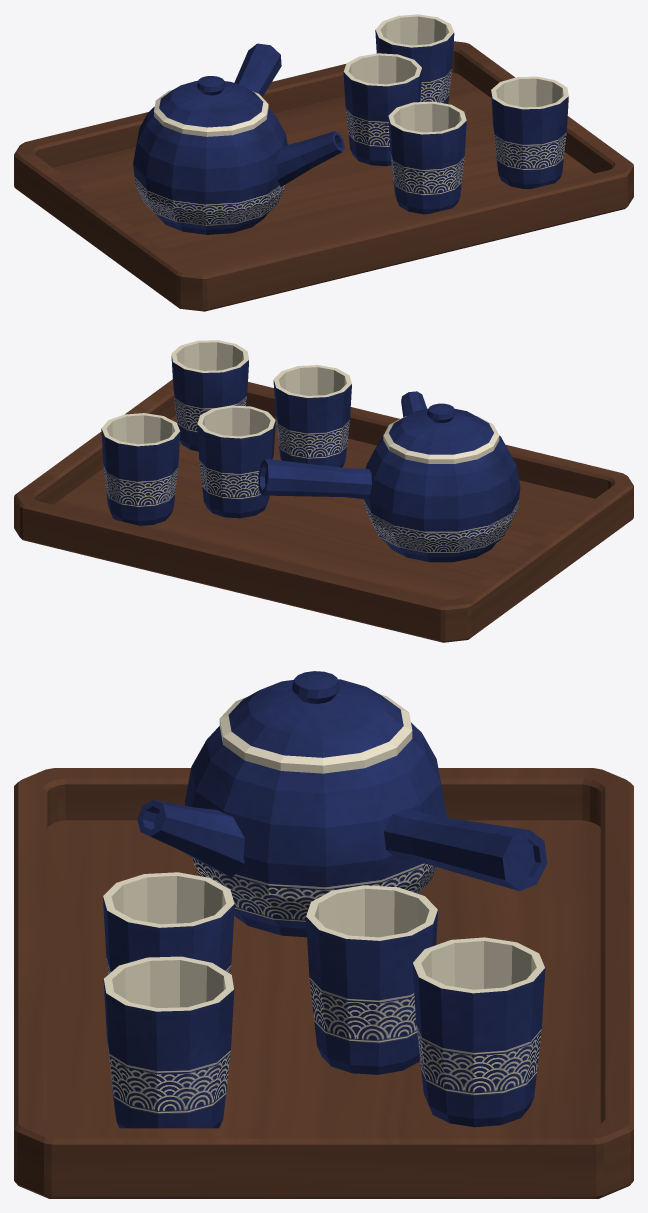
Rendered from 12_Juego_Te_Der.fbx.
The picture shows the model from 3 angles, top to bottom: view 1: azimuth 30°, elevation 25°; view 2: azimuth 150°, elevation 25°; view 3: azimuth 270°, elevation 25°; orthographic projection. The views are drawn at different scales.
Visible parts, largest first — view 1: SM_12_Bandeja, SM_12_Tazas, SM_12_Tetera; view 2: SM_12_Bandeja, SM_12_Tazas, SM_12_Tetera; view 3: SM_12_Bandeja, SM_12_Tazas, SM_12_Tetera.
Boxes of the visible parts, x1,y1,x2,y2 form: SM_12_Bandeja: (14,41,633,311); SM_12_Tazas: (343,14,568,214); SM_12_Tetera: (133,43,344,234); SM_12_Bandeja: (14,379,633,642); SM_12_Tazas: (101,340,351,525); SM_12_Tetera: (258,391,520,562); SM_12_Bandeja: (14,768,633,1198); SM_12_Tazas: (103,872,545,1128); SM_12_Tetera: (137,671,547,937).
Size of the model in its own units: 0.4 by 0.12 by 0.28.
